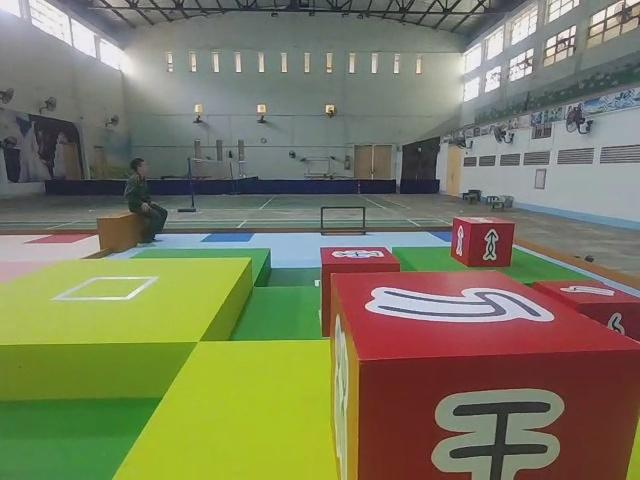R2 Fake: (327, 271, 640, 480)
R2 Real: (450, 214, 515, 269)
